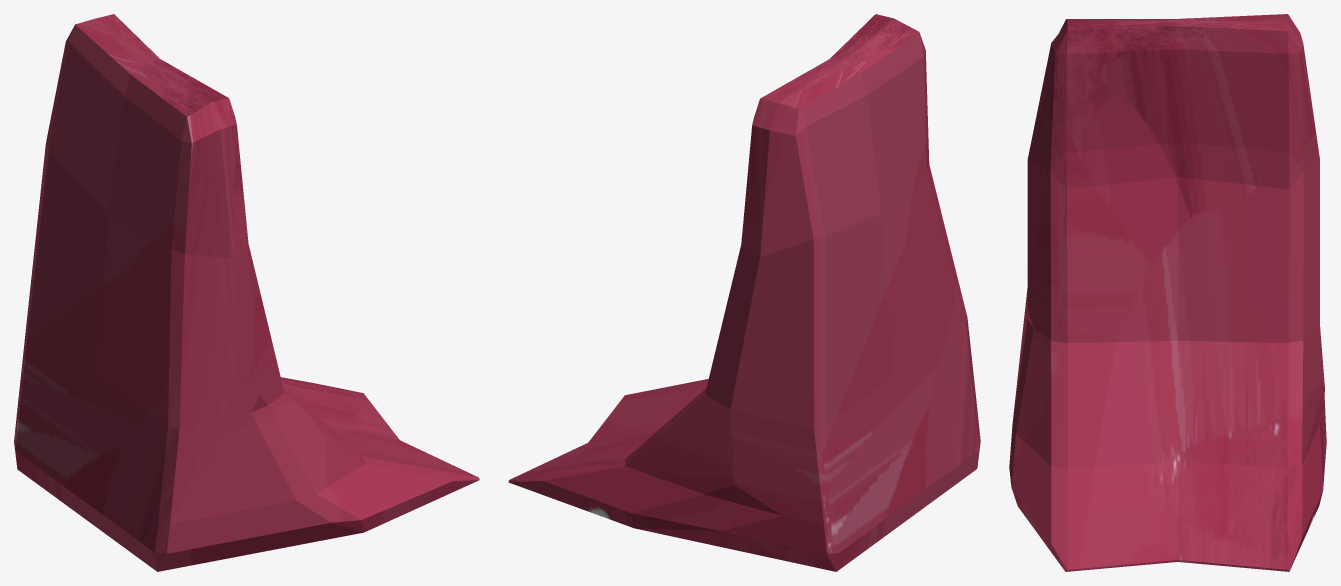
File: TrenchPipeV1.fbx
The picture shows the model from 3 angles, left to right: view 1: azimuth 30°, elevation 25°; view 2: azimuth 150°, elevation 25°; view 3: azimuth 270°, elevation 25°; orthographic projection. The views are drawn at different scales.
Parts seen in each view (by area): view 1: Pipe v.1; view 2: Pipe v.1; view 3: Pipe v.1.
Boxes of the visible parts, x1=… form: Pipe v.1: x1=14, y1=14, x2=479, y2=571; Pipe v.1: x1=508, y1=14, x2=980, y2=571; Pipe v.1: x1=1009, y1=14, x2=1326, y2=571.
Bounding box in the file's own units: 460 × 574 × 390.
